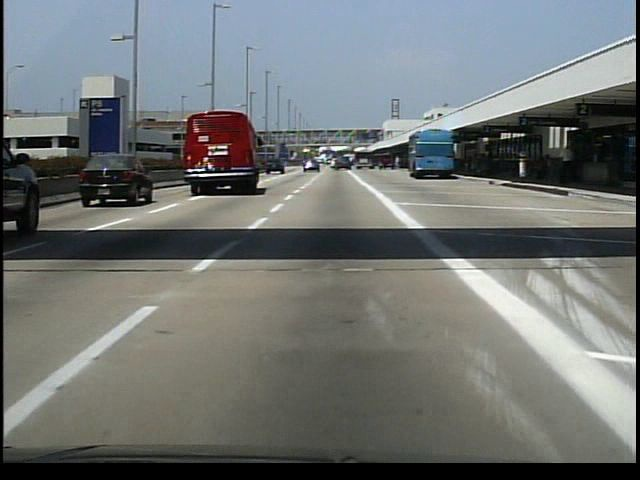person: (559, 142, 577, 185)
